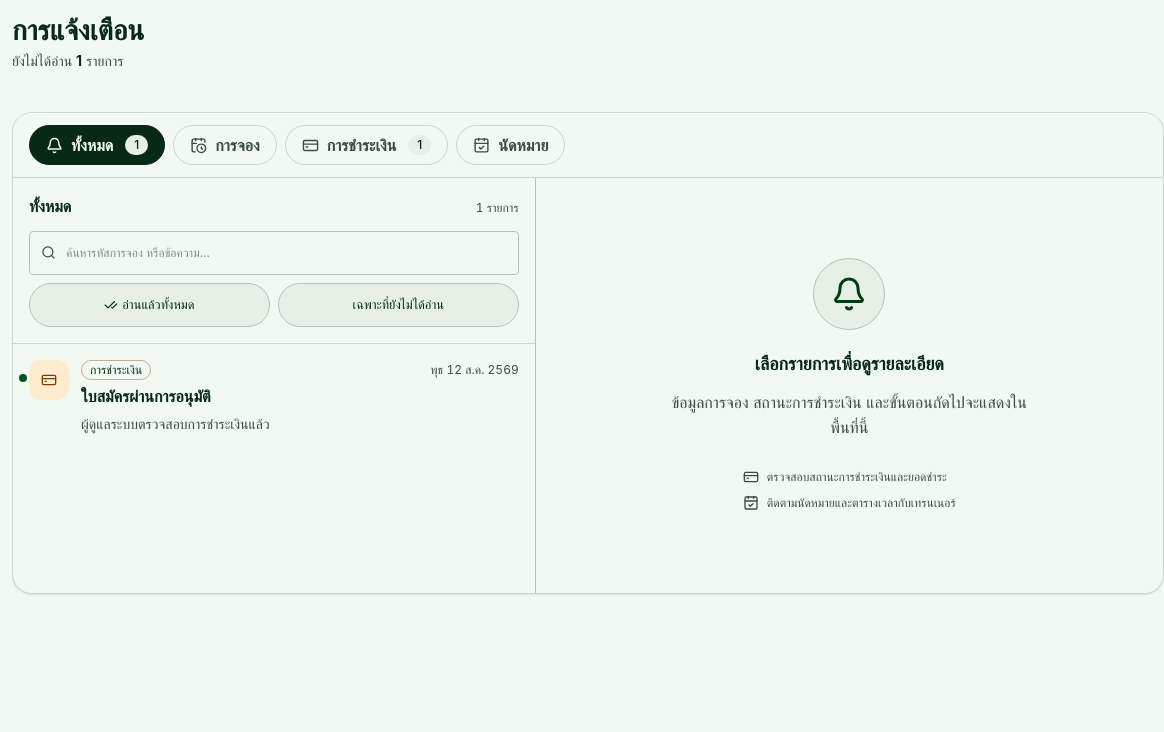
Test: NotificationCenter › opens a notification that has no booking without breaking
What coordinates should you click on to do the following:
click the text "ใบสมัครผ่านการอนุมัติ"
I would click on:
 (146, 396)
Its box is x1=81 y1=386 x2=211 y2=406.
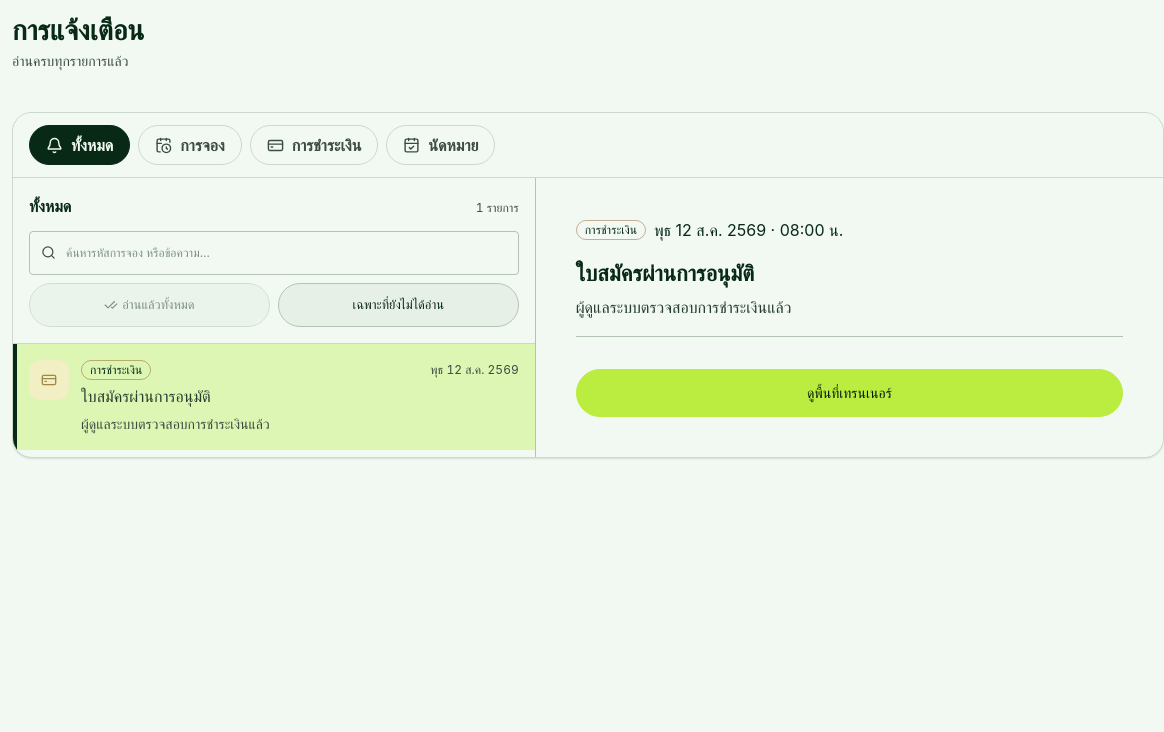
Expected: the heading "ใบสมัครผ่านการอนุมัติ" is shown, x1=576 y1=260 x2=754 y2=286
